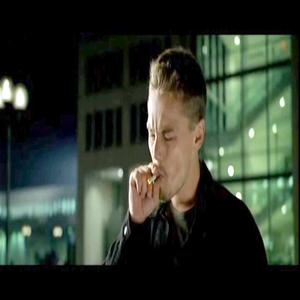cigarette: (146, 172, 160, 184)
